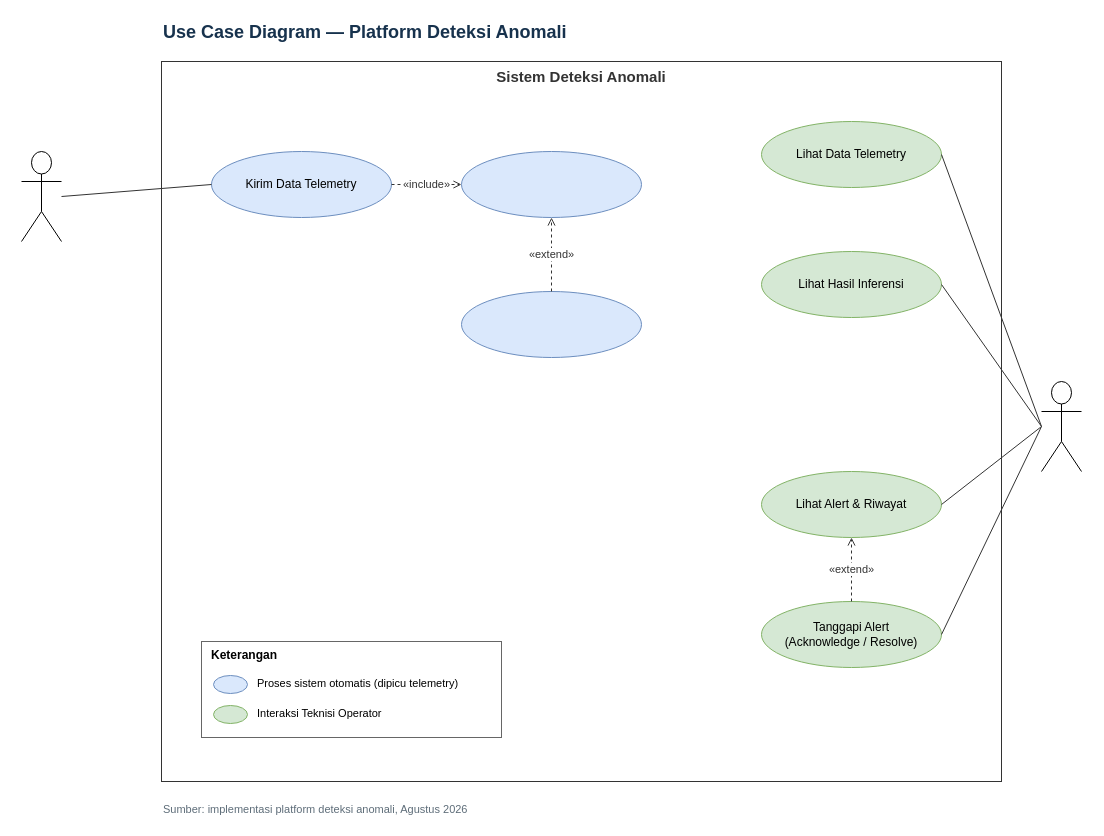
Image size: 1104x836. Some labels were removed from this diagram. Here are the shapes that lost their labels. From the top down, the box of each, then its label:
(20, 150, 62, 242): TALPHA (Sensor)
(460, 150, 642, 218): Proses Inferensi Anomali
(460, 290, 642, 358): Bentuk Alert Anomali
(1040, 380, 1082, 472): Teknisi Operator
